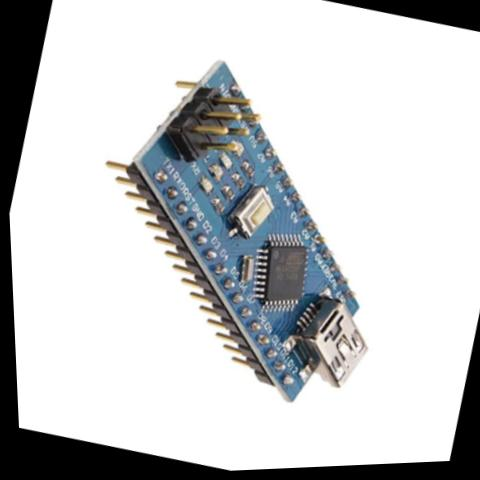Arduino-Nano: (41, 21, 444, 438)
